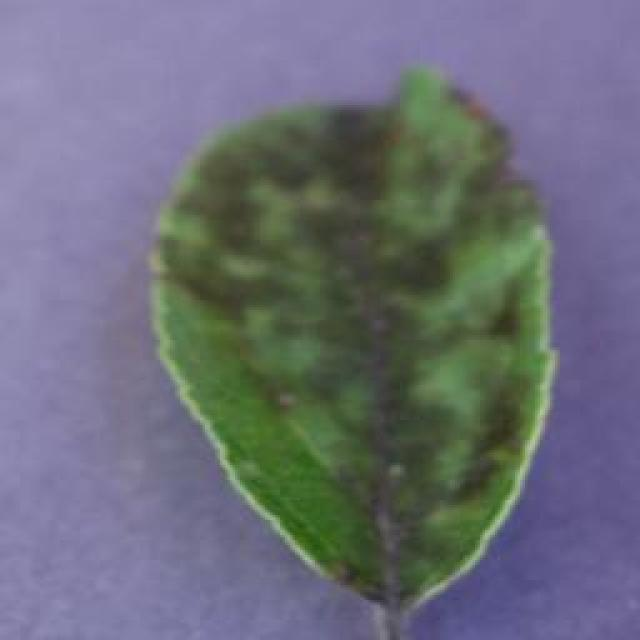apple scab disease: (145, 62, 560, 628)
